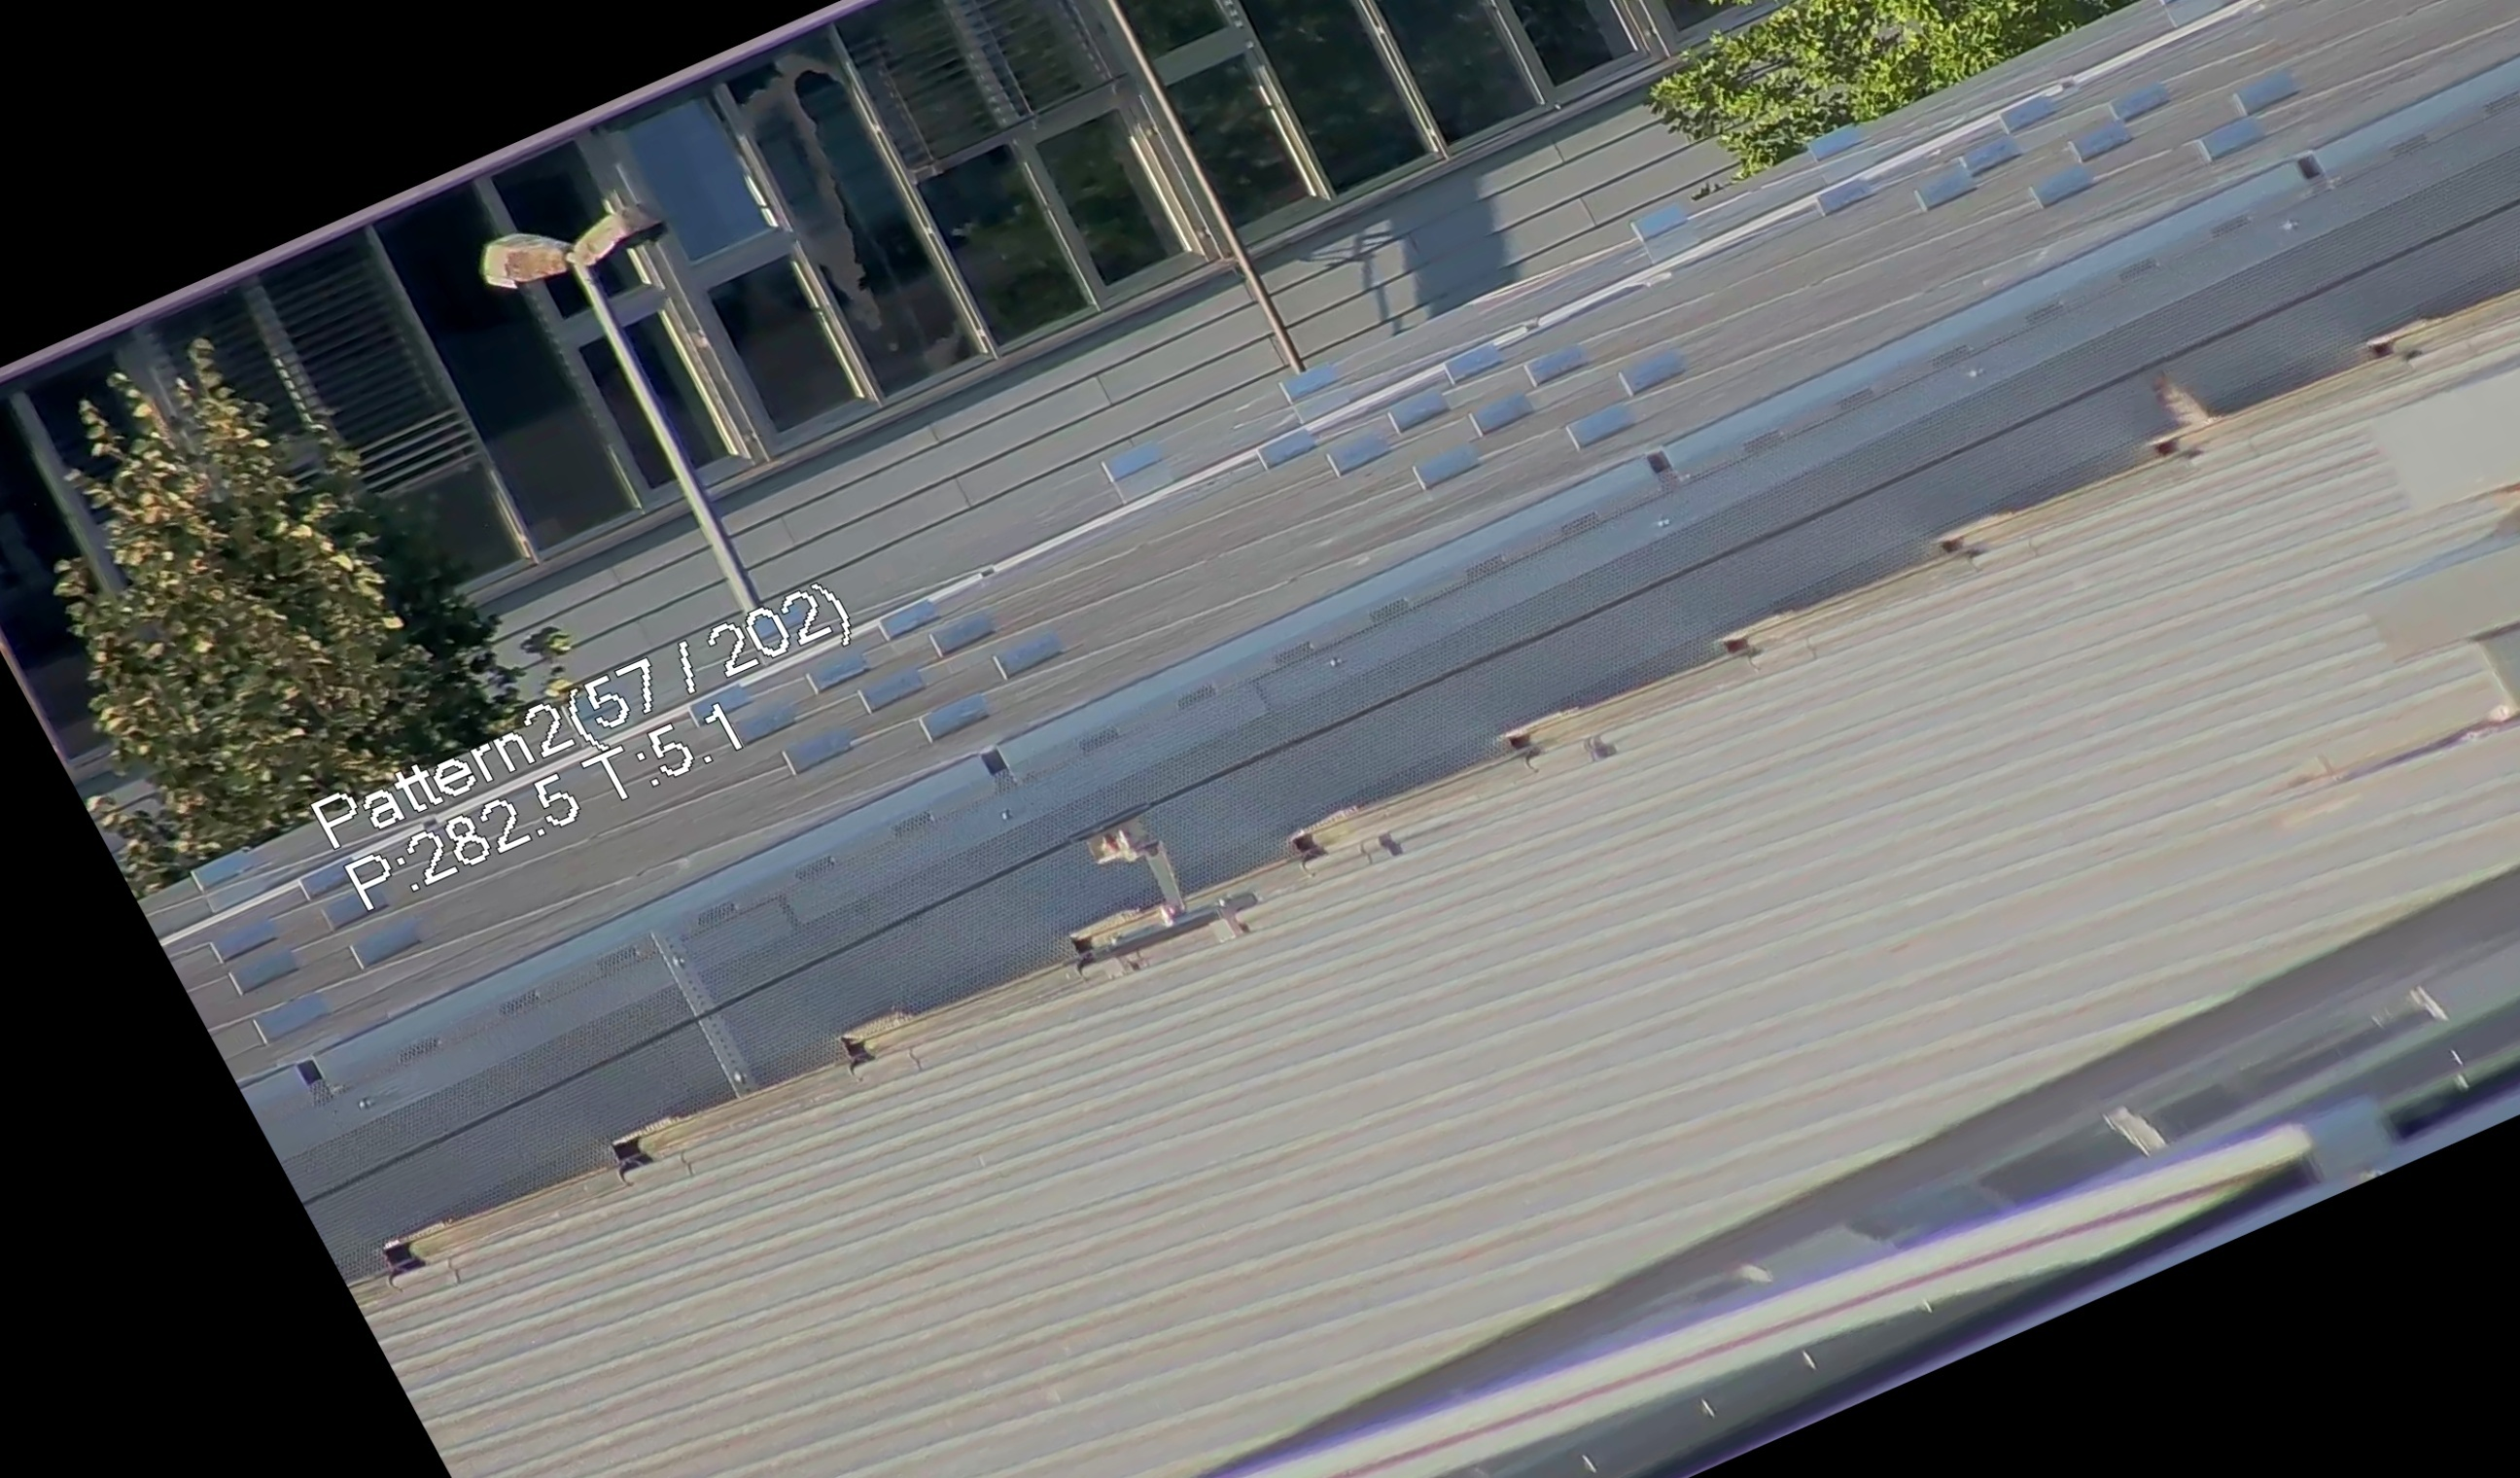Other: (2116, 338, 2249, 475)
